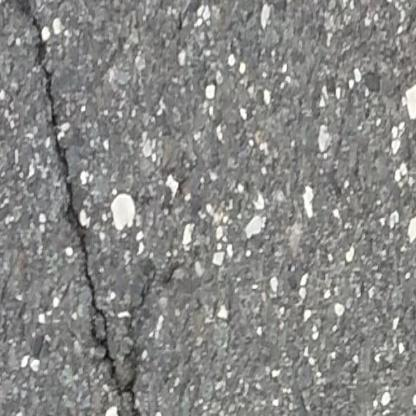Cracks: (50, 92, 150, 416), (8, 0, 52, 87)
